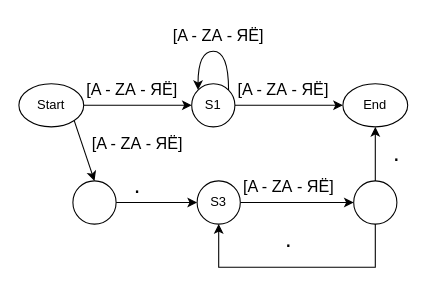
Image size: 448x295. Some labels were removed from this diagram. The shapes that lost their labels are listed below. From the top down, each one's centre as x and y in pixels, then its label:
At (x=94, y=202): "S2".
At (x=375, y=202): "S4".
